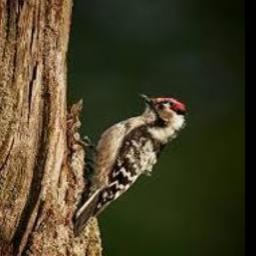Woodpecker: (75, 92, 188, 234)
